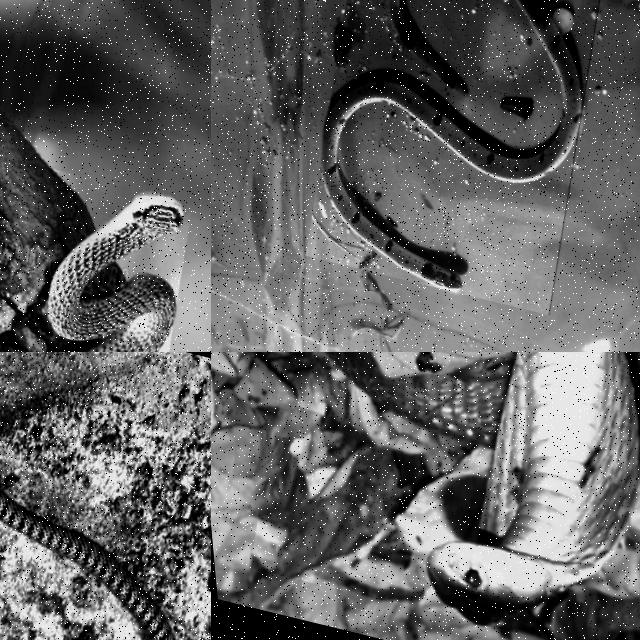Calliophis maculiceps: (323, 0, 586, 291)
Chrysopelea ornata: (0, 489, 174, 639), (48, 192, 182, 351)
Naja siamensis: (329, 352, 639, 623)
